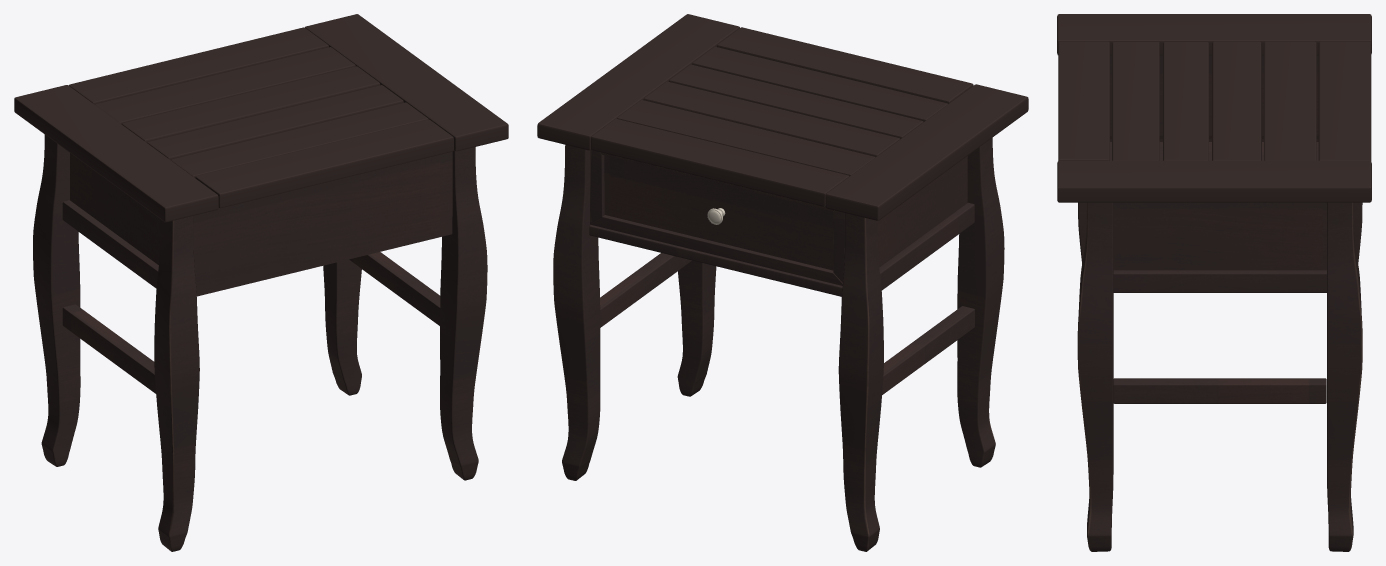
Rendered from abo_B07NYSHH9W.glb.
3 views of the same model, side by side, from view 1: azimuth 30°, elevation 25°; view 2: azimuth 150°, elevation 25°; view 3: azimuth 270°, elevation 25° (orthographic). The views are drawn at different scales.
Visible parts, largest first — view 1: RootNode; view 2: RootNode; view 3: RootNode.
Part boxes in pixels (x1,y1,x2,y2): RootNode: [14, 14, 508, 551]; RootNode: [537, 14, 1028, 551]; RootNode: [1057, 14, 1371, 551].
Size of the model in its own units: 0.6025 by 0.6053 by 0.4598.
1 material, 1 textured.
